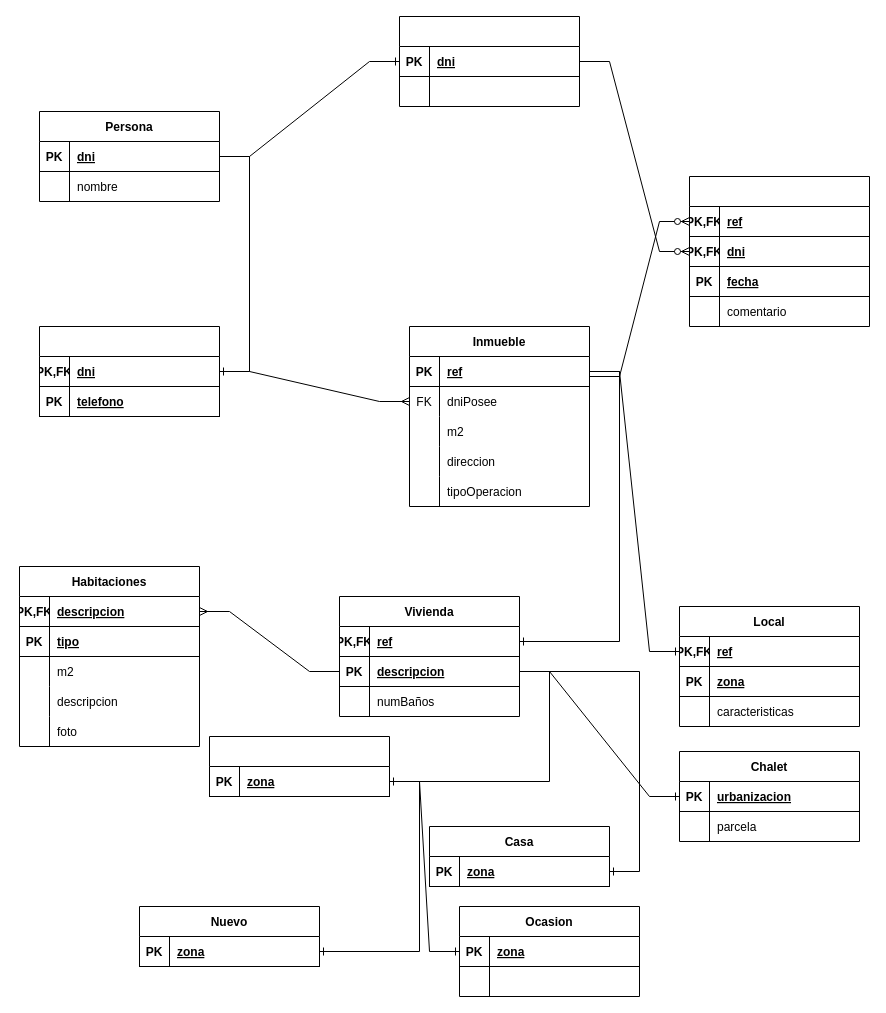
Some shapes in this 886 by 1013 pixel diagram are drawn without their labels. Each missing label, with the box of its shape:
Cliente: (398, 16, 580, 106)
Piso: (208, 736, 390, 796)
Propietario: (38, 326, 220, 416)
Visita: (688, 176, 870, 326)
